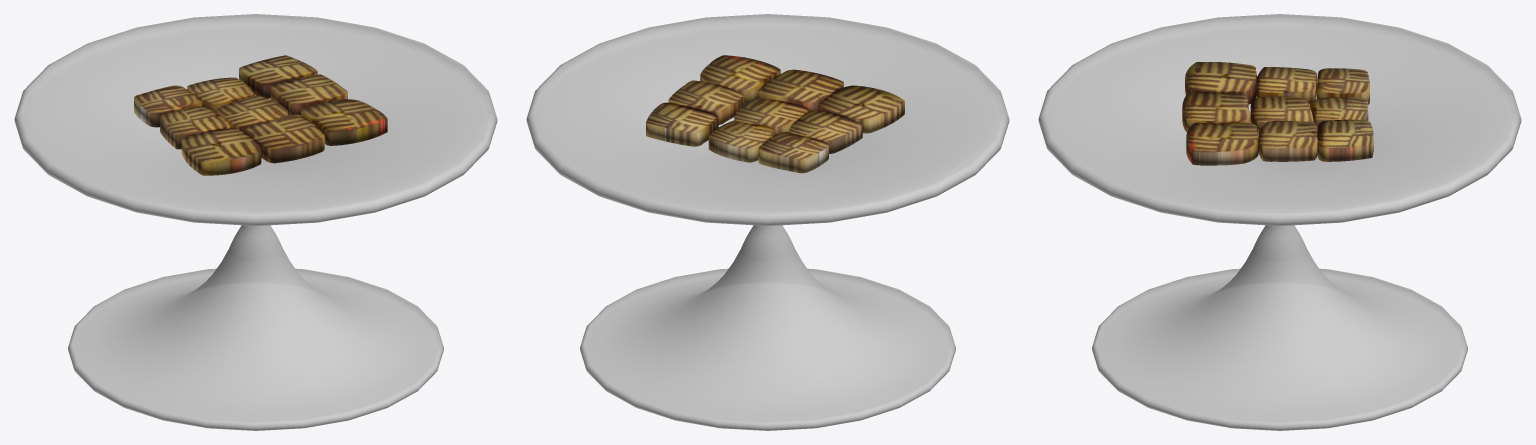
Rendered from Sans.dae.
3 renders of one model, left to right at view 1: azimuth 30°, elevation 25°; view 2: azimuth 150°, elevation 25°; view 3: azimuth 270°, elevation 25°, orthographic.
Visible parts, largest first — view 1: group_9 (×3), group_2, group_6, group_5, group_7, group_8, group_1, group_0, group_4, group_3; view 2: group_9 (×3), group_2, group_8, group_0, group_5, group_6, group_3, group_1, group_7, group_4; view 3: group_9 (×3), group_6, group_7, group_8, group_2, group_5, group_1, group_4, group_0, group_3.
Boxes of the visible parts, x1,y1,x2,y2 form: group_9 (×3): (14,14,497,430); group_2: (181,128,261,175); group_6: (301,99,387,145); group_5: (244,114,324,163); group_7: (270,74,347,115); group_8: (239,55,317,98); group_1: (160,106,230,149); group_0: (134,85,201,127); group_4: (217,95,287,132); group_3: (187,77,254,112); group_9 (×3): (526,14,1009,430); group_2: (818,85,904,133); group_8: (646,102,718,146); group_0: (758,132,828,173); group_5: (758,69,843,111); group_6: (700,55,780,103); group_3: (708,120,774,162); group_1: (789,110,862,153); group_7: (668,80,743,124); group_4: (734,98,808,135); group_9 (×3): (1038,14,1521,430); group_6: (1186,122,1258,165); group_7: (1258,120,1317,161); group_8: (1317,119,1373,161); group_2: (1185,62,1257,104); group_5: (1182,93,1250,131); group_1: (1256,67,1316,104); group_4: (1250,96,1313,134); group_0: (1316,68,1369,104); group_3: (1310,97,1368,127).
Bounding box in the file's own units: 94.67 × 94.67 × 53.19.
